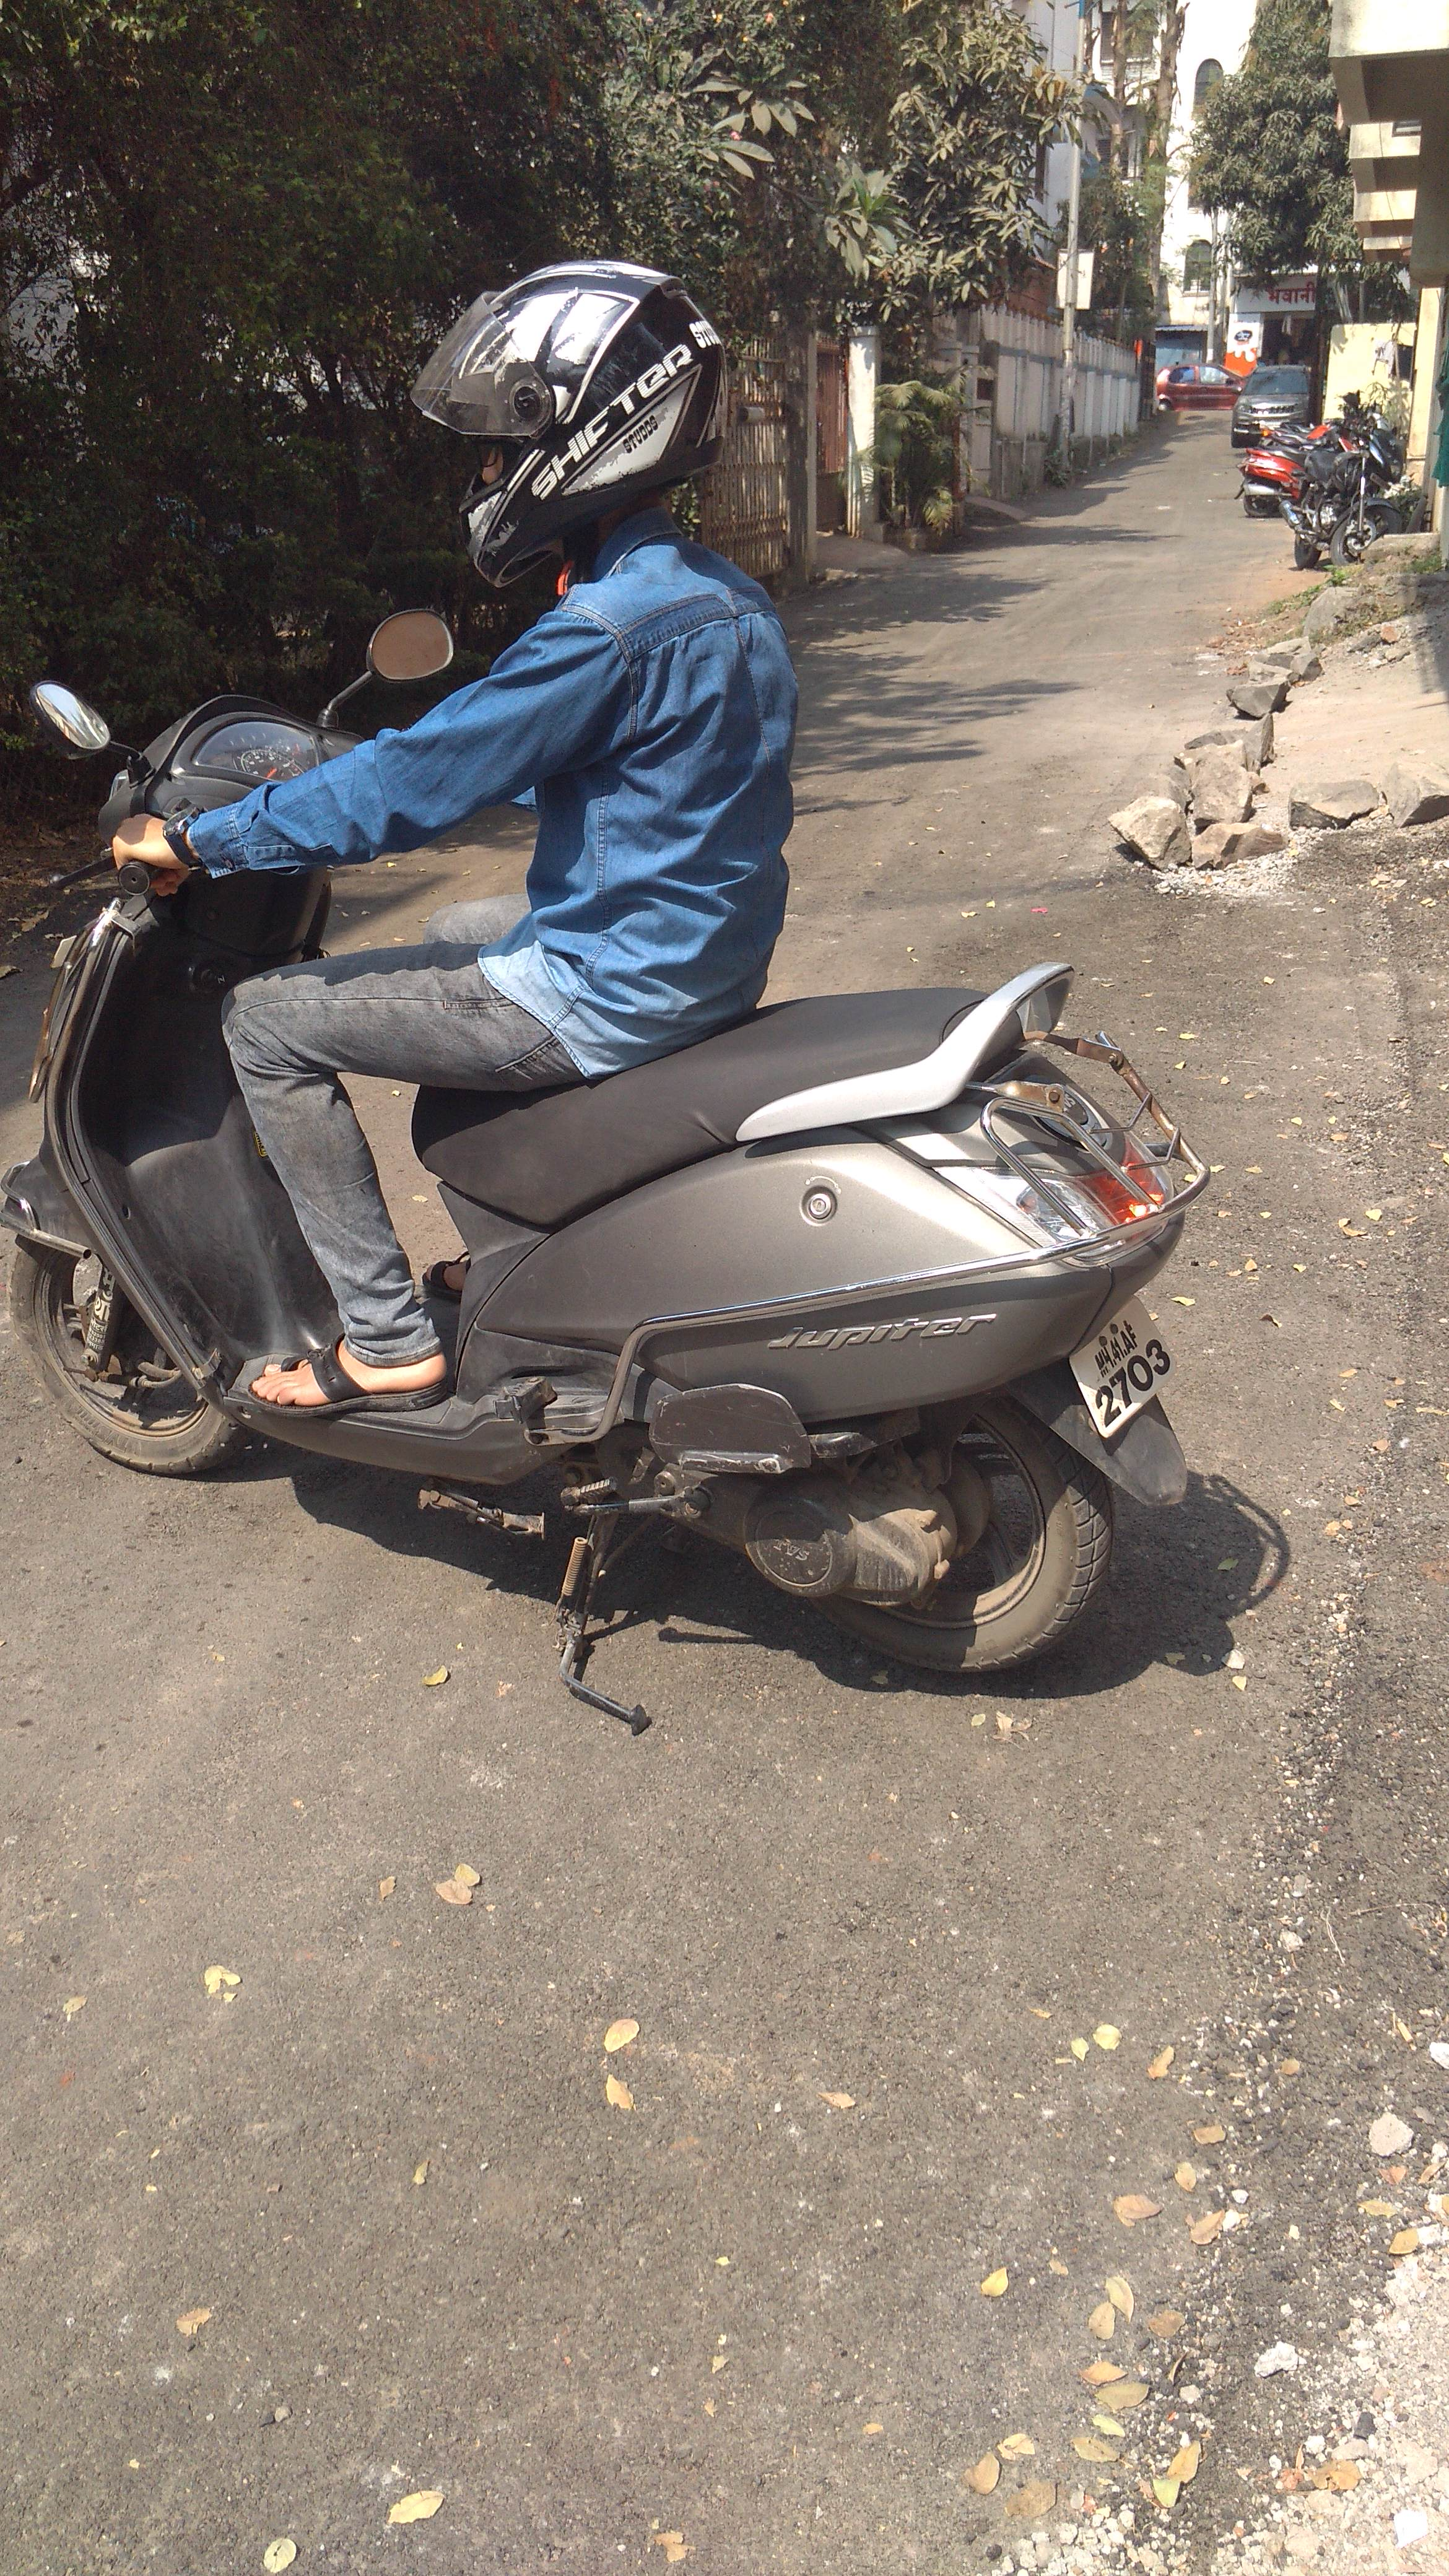helmet: (221, 235, 816, 1081)
